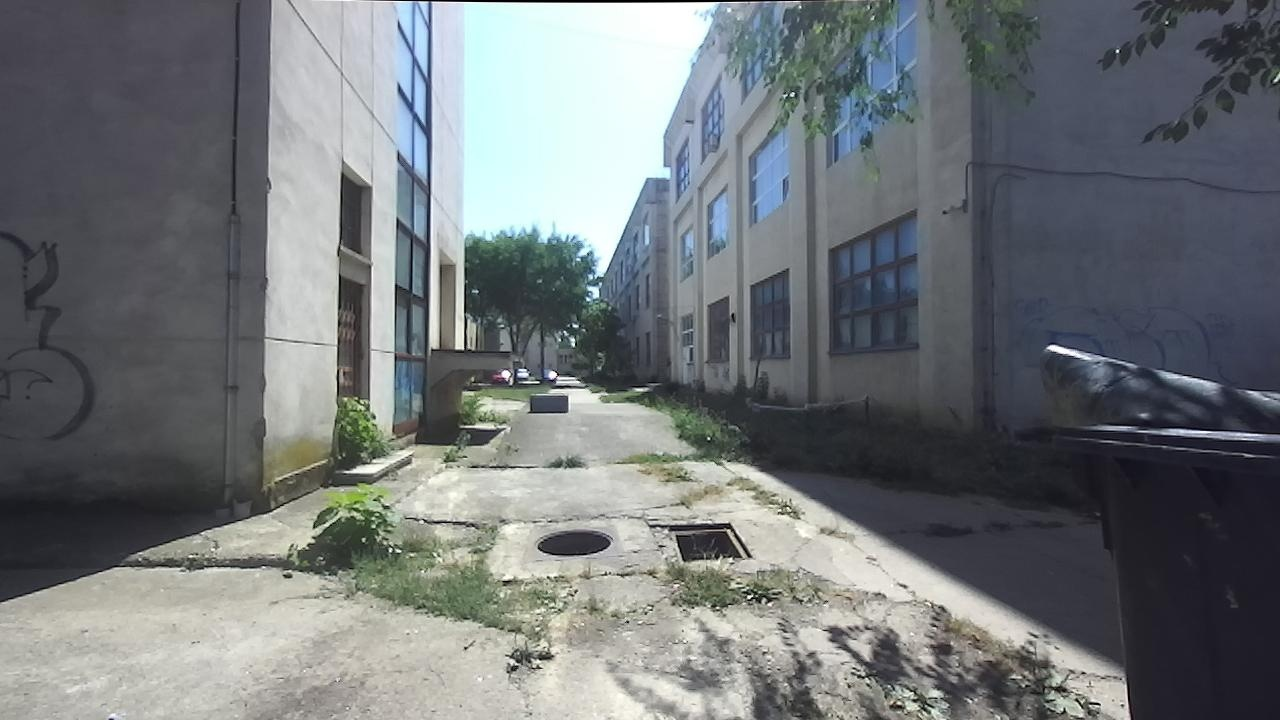drain: (666, 515, 754, 565), (532, 521, 616, 562)
